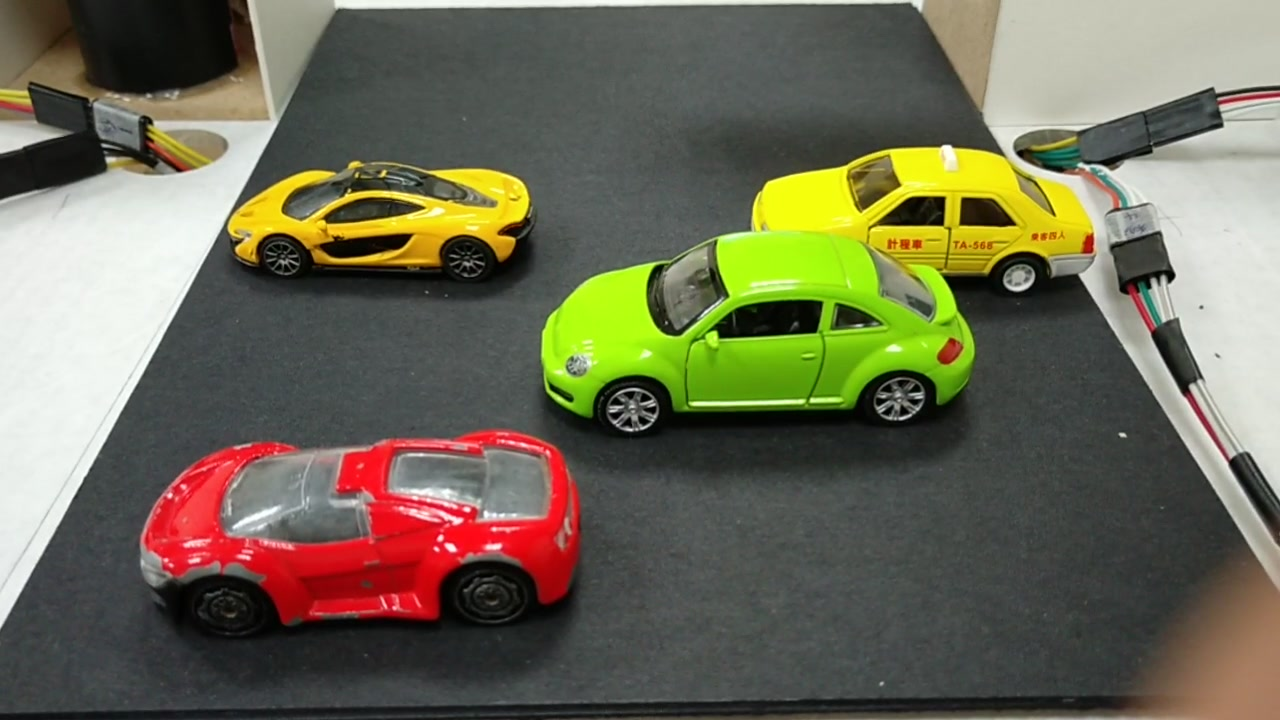car: (542, 244, 979, 432), (148, 450, 580, 627), (751, 143, 1099, 299), (236, 157, 532, 286)
